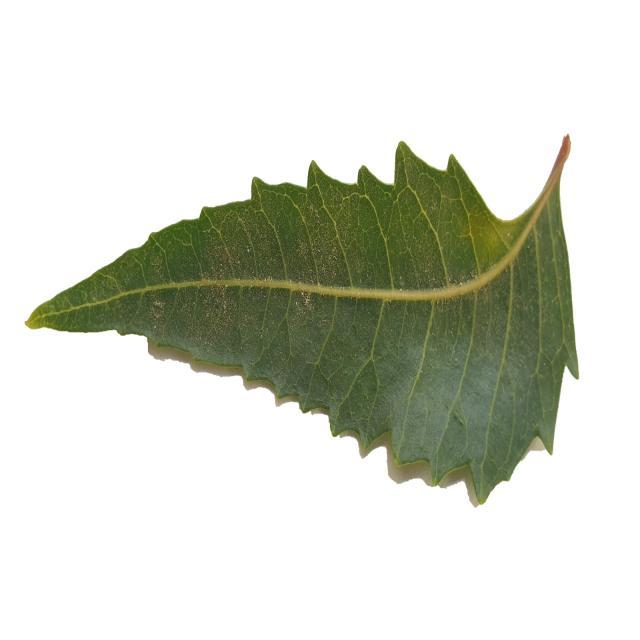Wet: (8, 118, 603, 515)
